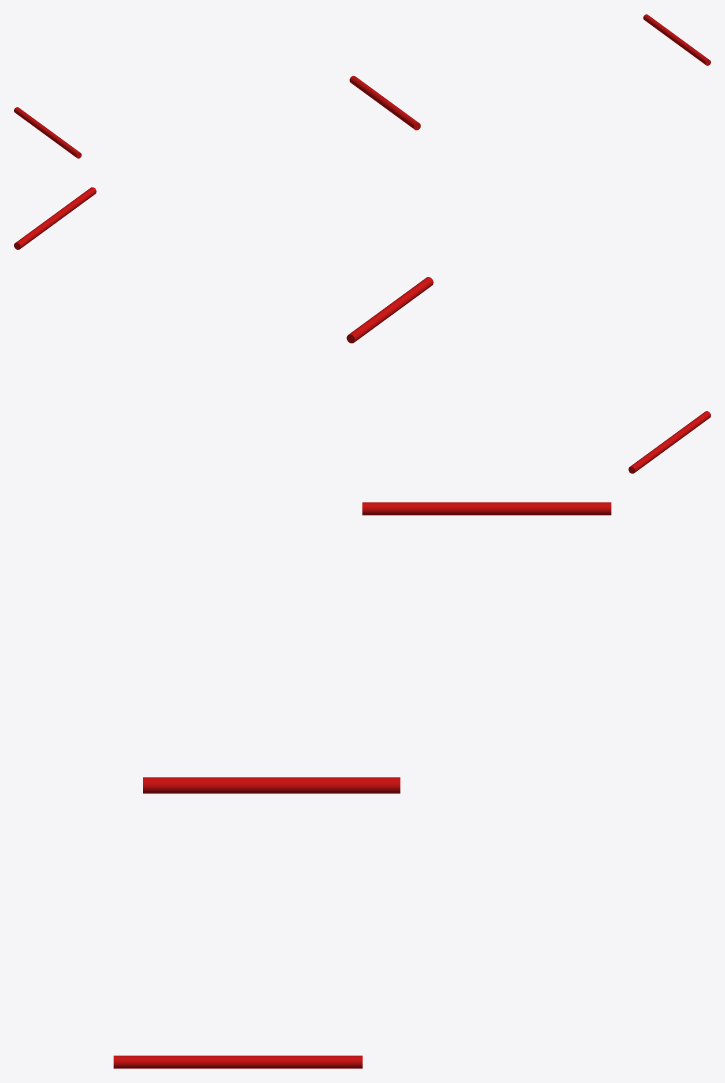
File: Task01_Gate_SearchRescueLeft_red.obj
3 renders of one model, top to bottom at view 1: azimuth 30°, elevation 25°; view 2: azimuth 150°, elevation 25°; view 3: azimuth 270°, elevation 25°, orthographic. The views are drawn at different scales.
Parts seen in each view (by area): view 1: divider, leg_left, leg_right; view 2: divider, leg_left, leg_right; view 3: divider, leg_left, leg_right.
Part boxes in pixels (<box>): divider: <box>349,76,420,130</box>; leg_left: <box>14,107,81,158</box>; leg_right: <box>643,14,710,65</box>; divider: <box>346,277,433,343</box>; leg_left: <box>628,411,710,473</box>; leg_right: <box>14,187,96,249</box>; divider: <box>143,777,400,793</box>; leg_left: <box>362,502,611,515</box>; leg_right: <box>113,1055,362,1068</box>.
Size of the model in its own units: 3.13 by 0.038 by 1.18.
